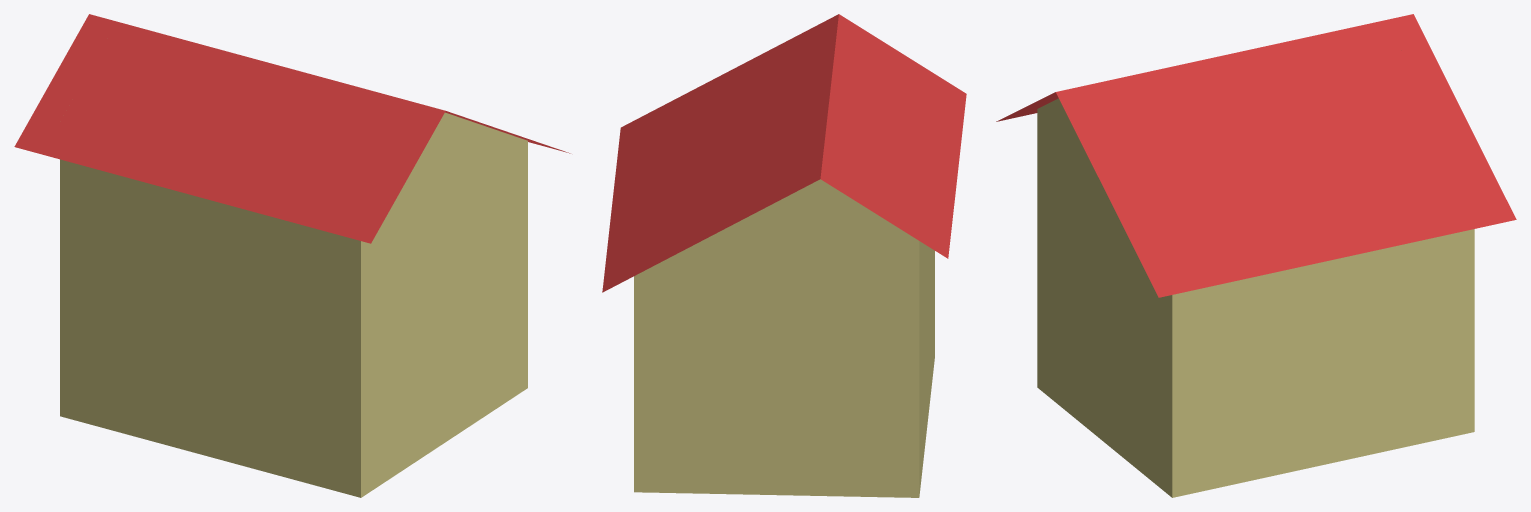
3 views of the same model, side by side, from view 1: azimuth 30°, elevation 25°; view 2: azimuth 150°, elevation 25°; view 3: azimuth 270°, elevation 25° (orthographic). The views are drawn at different scales.
Bounding box in the file's own units: 12.01 × 12.49 × 8.97.
